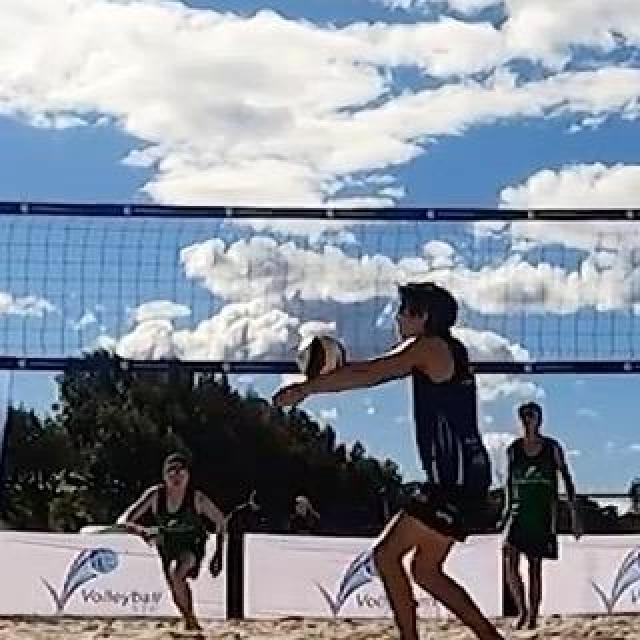volleyball: (297, 335, 347, 377)
